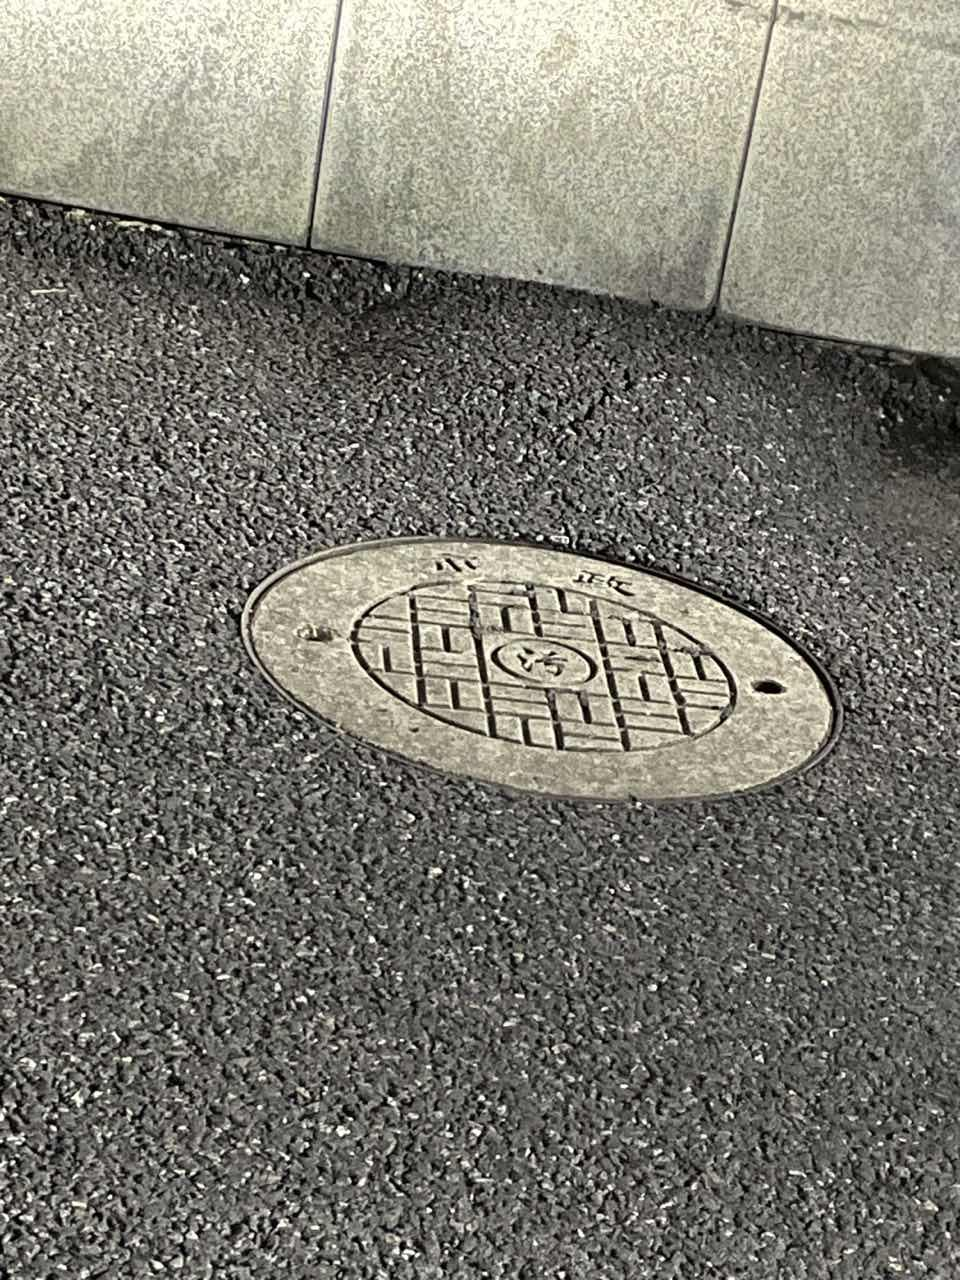wellcover: (241, 493, 856, 820)
